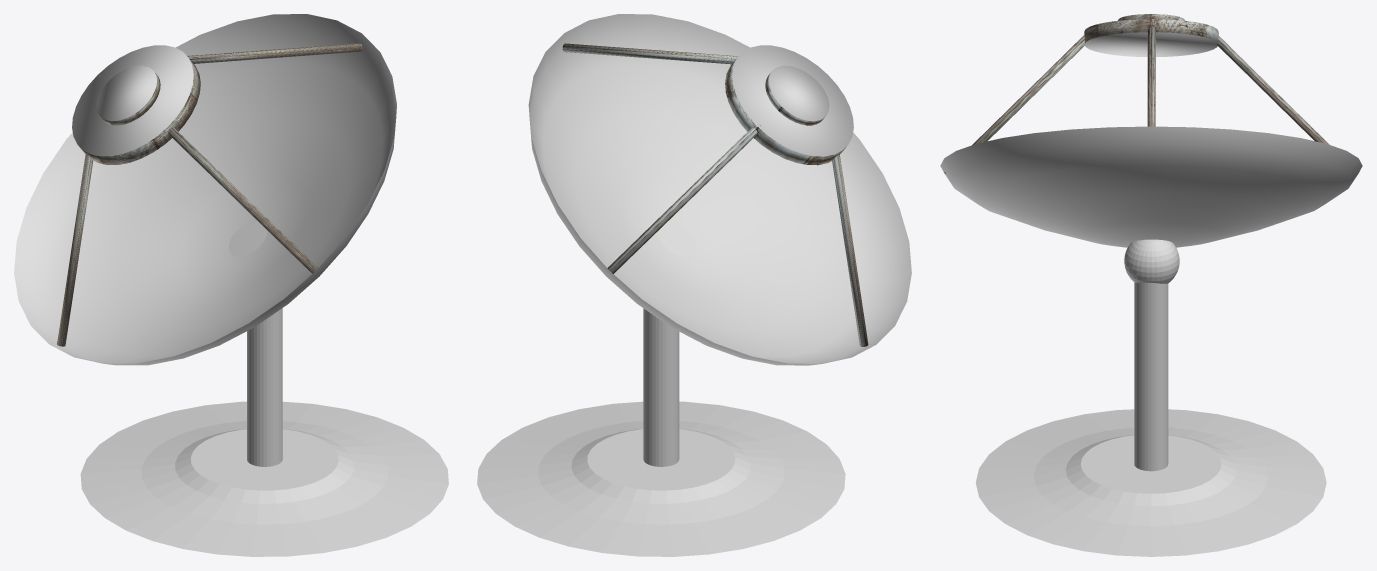
The model's file is antena.glb.
The picture shows the model from 3 angles, left to right: view 1: azimuth 30°, elevation 25°; view 2: azimuth 150°, elevation 25°; view 3: azimuth 270°, elevation 25°; orthographic projection. The views are drawn at different scales.
Parts seen in each view (by area): view 1: Cilindro.008; view 2: Cilindro.008; view 3: Cilindro.008.
Part boxes in pixels (x1,y1,x2,y2): Cilindro.008: (14,14,448,556); Cilindro.008: (477,14,911,556); Cilindro.008: (940,14,1362,556).
Bounding box in the file's own units: 10.79 × 12.31 × 11.07.
2 materials, 1 textured.
